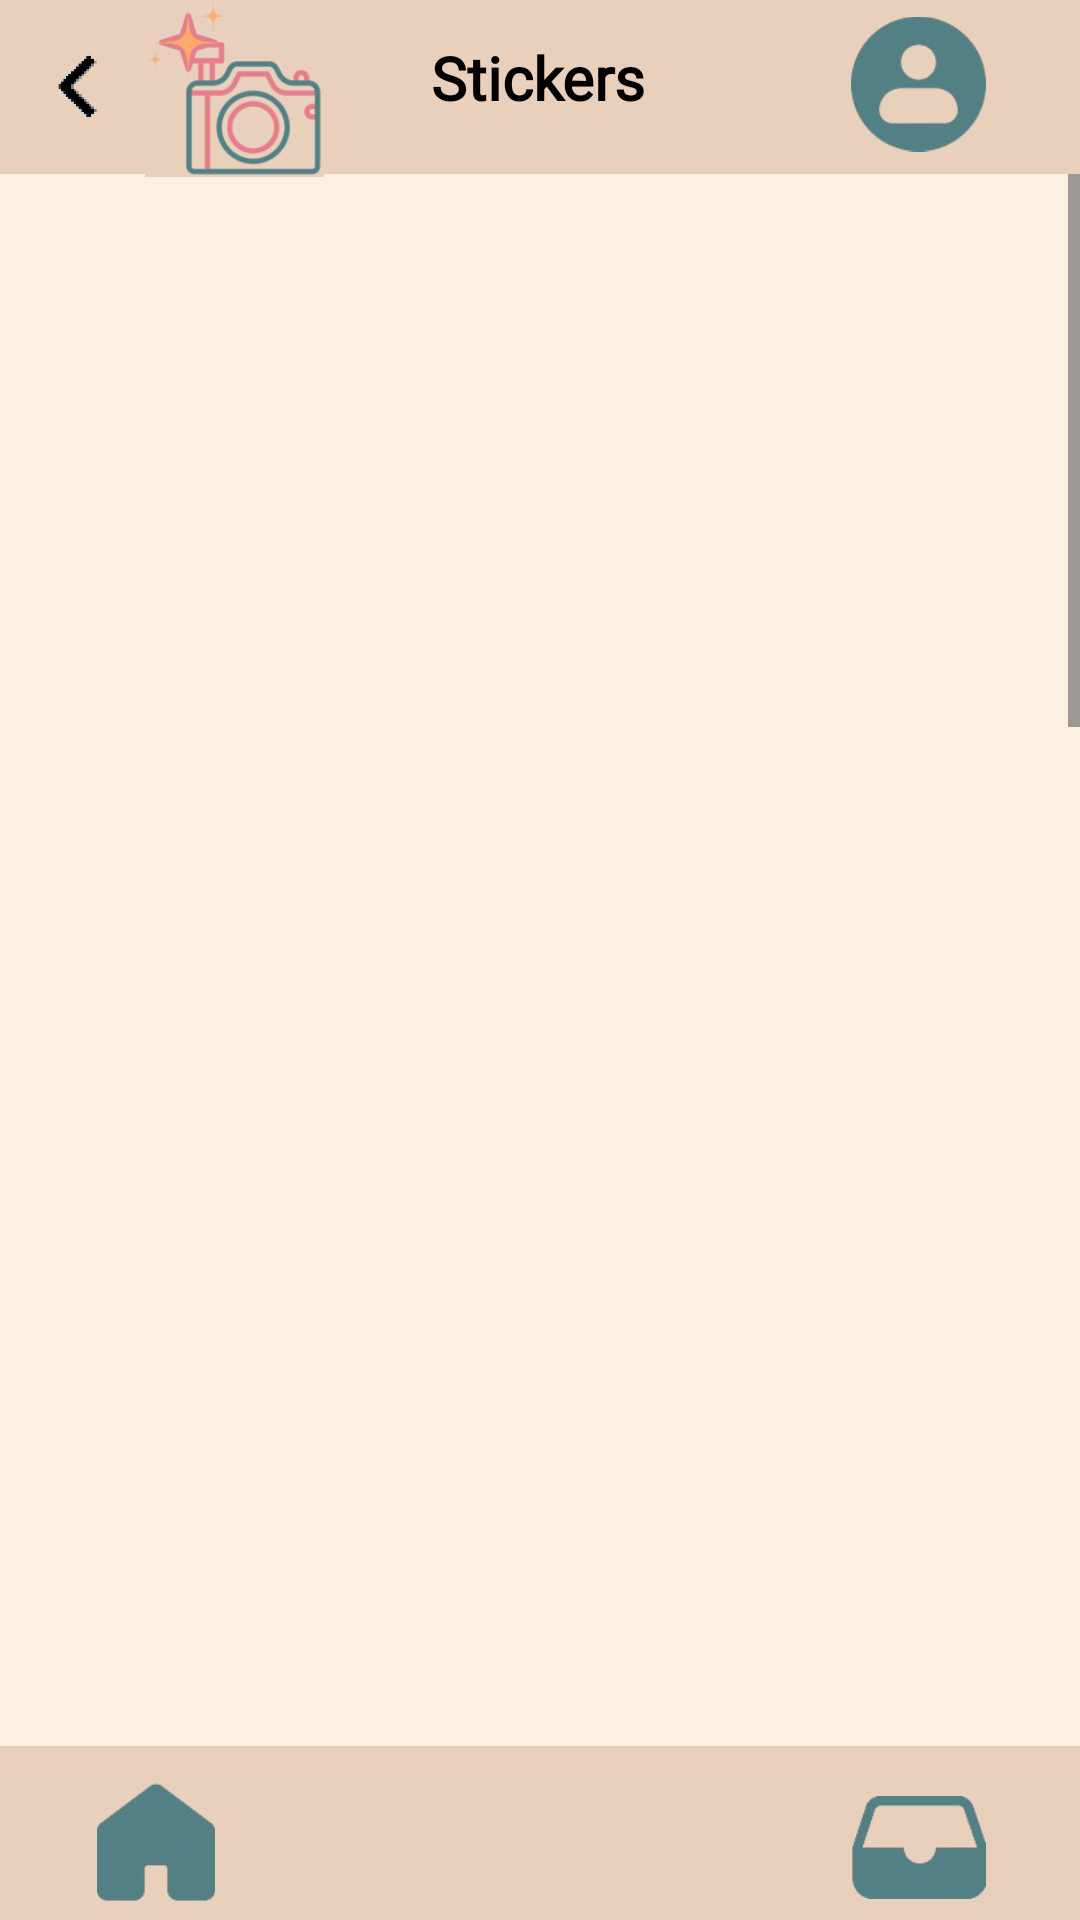

Icon bounding boxes for this 1080×1920 phone screenshot, format bbox=[x1, y1, x2, y2]:
home: bbox=[97, 1783, 215, 1901]
user profile: bbox=[851, 17, 986, 152]
